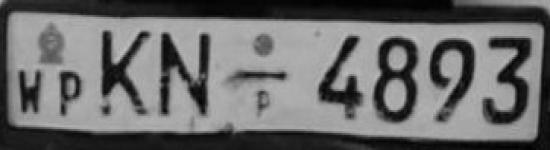-: (227, 66, 296, 87)
3: (480, 29, 539, 130)
4: (308, 25, 369, 128)
8: (372, 31, 422, 130)
9: (424, 30, 482, 132)
K: (93, 23, 156, 121)
N: (158, 24, 219, 124)
P: (52, 68, 87, 122)
W: (12, 65, 47, 120)
